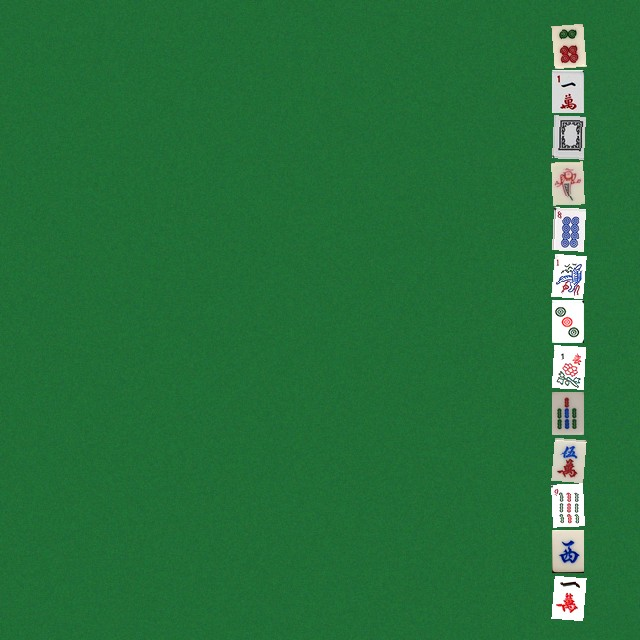tile: (551, 23, 583, 66), (551, 69, 583, 112), (551, 115, 583, 158), (551, 161, 583, 204), (551, 207, 583, 250), (551, 253, 583, 296), (551, 299, 583, 342), (551, 345, 583, 388), (551, 391, 583, 434), (551, 437, 583, 480), (551, 483, 583, 526), (551, 529, 583, 572), (551, 575, 583, 618)
